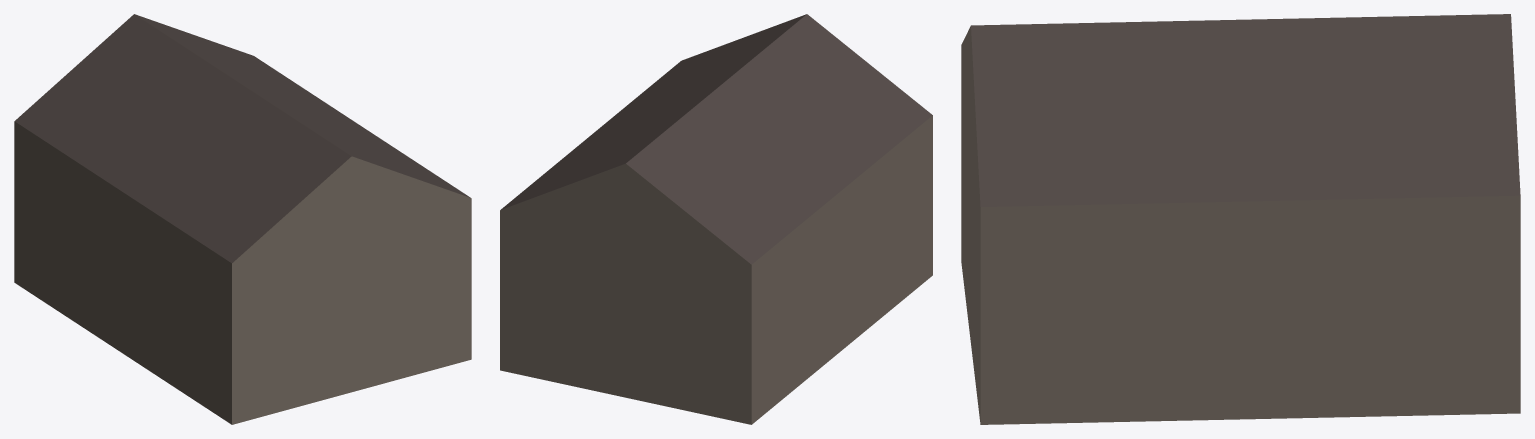
3 renders of one model, left to right at view 1: azimuth 30°, elevation 25°; view 2: azimuth 150°, elevation 25°; view 3: azimuth 270°, elevation 25°, orthographic. The views are drawn at different scales.
Parts seen in each view (by area): view 1: HP-w1376988692; view 2: HP-w1376988692; view 3: HP-w1376988692.
Part boxes in pixels (box(x1,y1,x2,y2)): HP-w1376988692: box(14, 14, 471, 424); HP-w1376988692: box(500, 14, 932, 424); HP-w1376988692: box(961, 14, 1520, 424).
Bounding box in the file's own units: 10.26 × 8.77 × 13.96.
